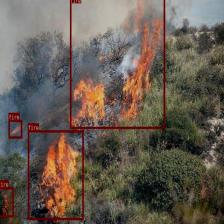fire: (70, 0, 164, 128), (28, 130, 83, 219), (0, 187, 14, 217), (8, 120, 22, 138)
